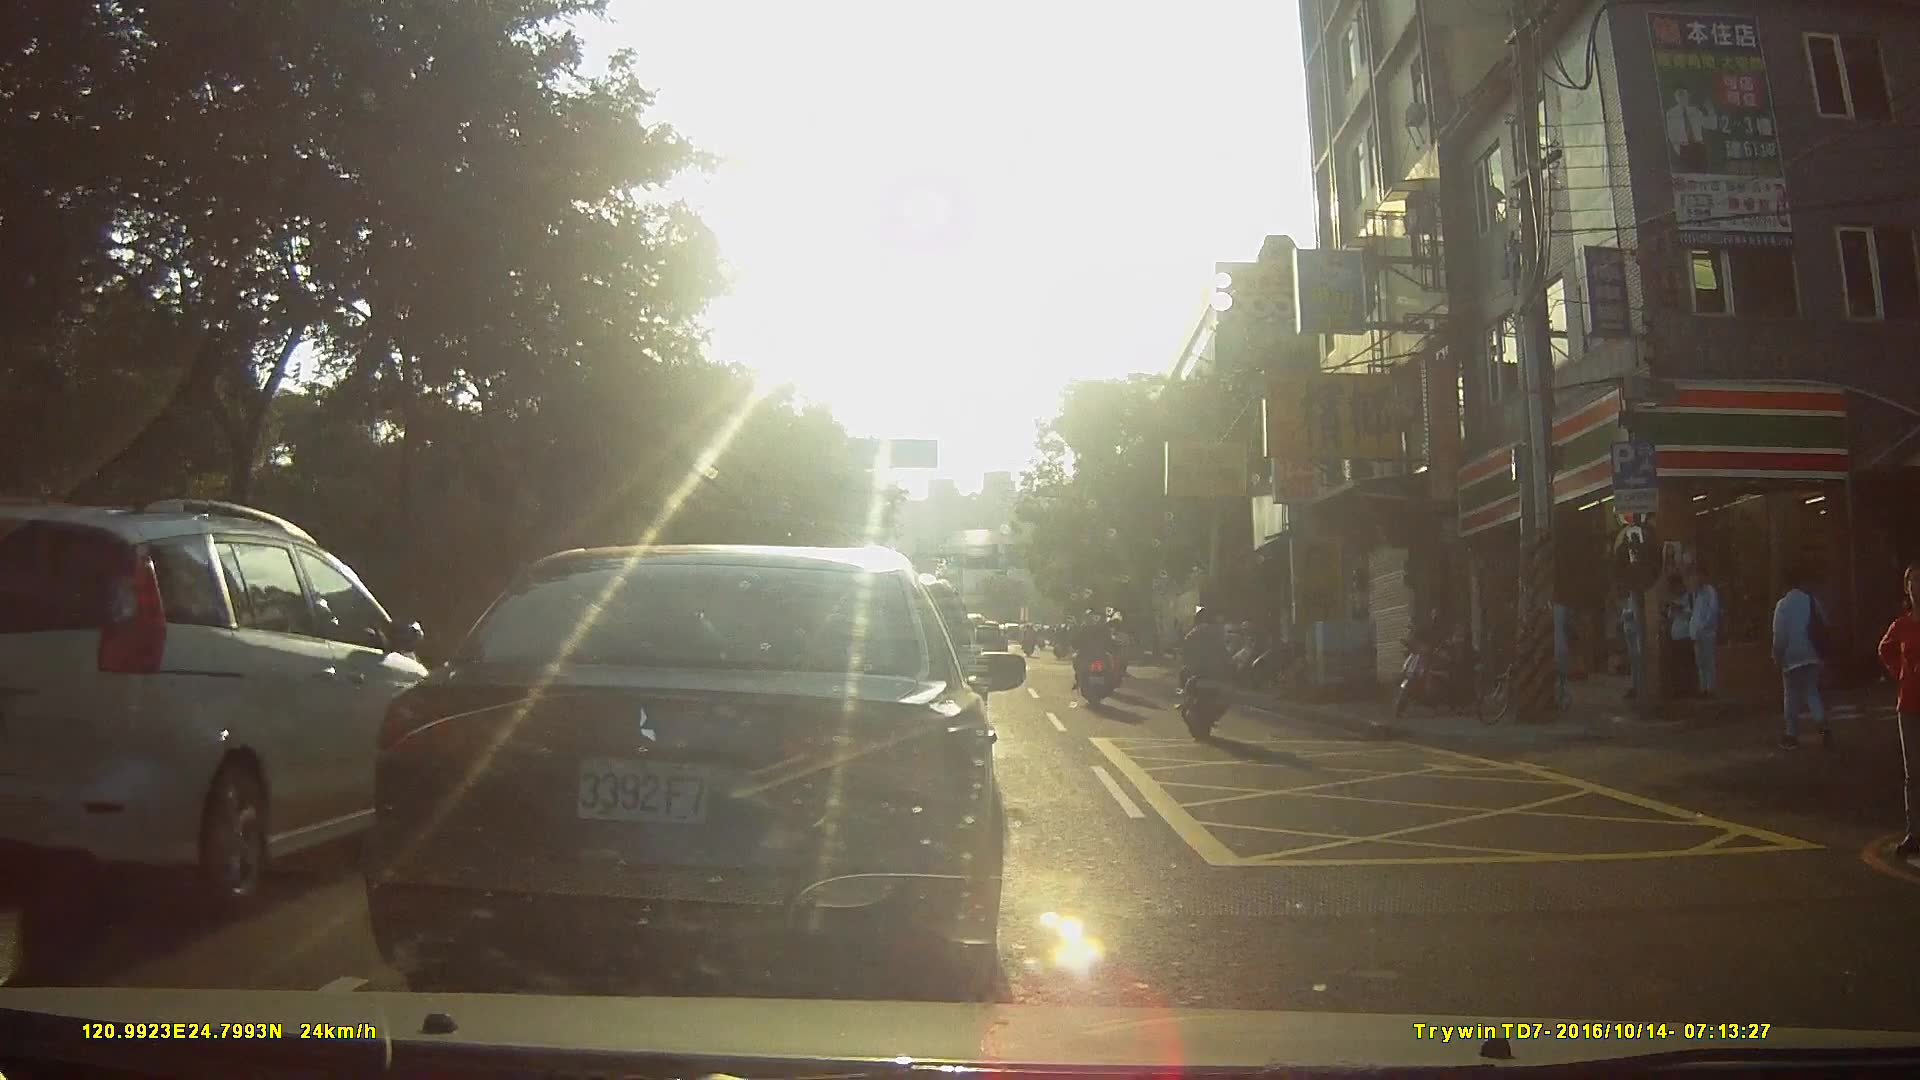pedestrian: (1768, 568, 1838, 758), (1876, 567, 1920, 854), (1527, 580, 1573, 713), (1679, 569, 1722, 701), (1614, 573, 1655, 708), (1662, 567, 1699, 711)
rider: (1176, 604, 1240, 746), (1071, 610, 1121, 711), (1051, 623, 1072, 662), (1020, 625, 1040, 661)
vehicle: (358, 544, 1035, 983), (1, 483, 463, 920)
